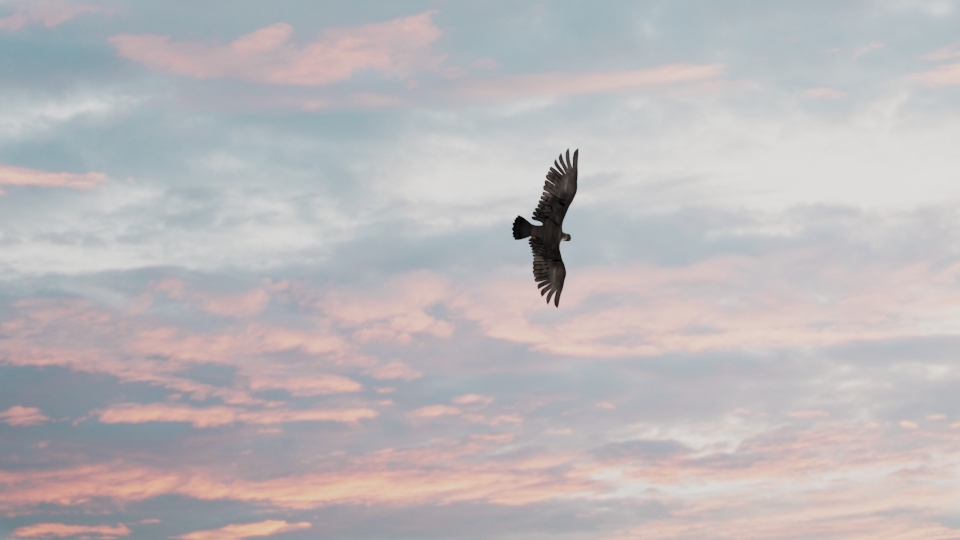bird: (512, 142, 582, 307)
